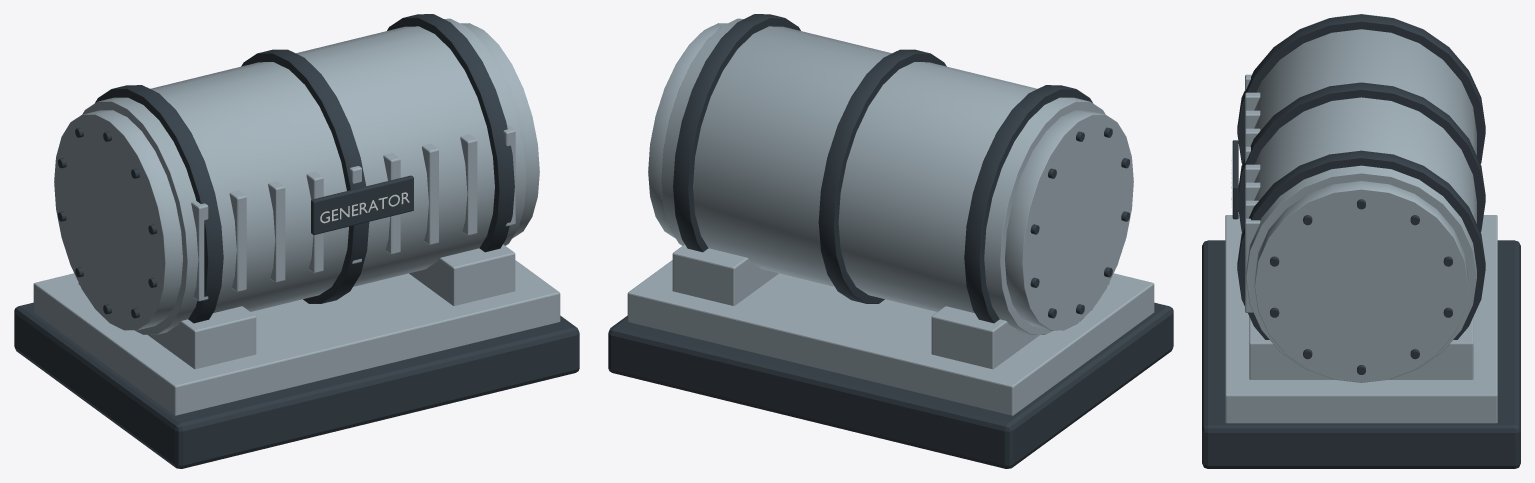
Rendered from generator.glb.
3 views of the same model, side by side, from view 1: azimuth 30°, elevation 25°; view 2: azimuth 150°, elevation 25°; view 3: azimuth 270°, elevation 25° (orthographic). The views are drawn at different scales.
Visible parts, largest first — view 1: Outer shell, Machine base, Concrete plinth, End plate, Casing band.002, Casing band, Casing band.001, Foot, Foot.001, Nameplate, End plate.001, Cooling rib.002 (+6 smaller); view 2: Outer shell, Machine base, Concrete plinth, End plate, Casing band.001, Casing band, Casing band.002, Foot, Foot.001, End plate.001; view 3: End plate.001, Outer shell, Concrete plinth, Machine base, Casing band.002, Casing band, Casing band.001, Foot.001, Nameplate, Cooling rib.008.
Part boxes in pixels (x1,y1,x2,y2): Outer shell: [82, 18, 526, 334]; Machine base: [33, 260, 560, 415]; Concrete plinth: [14, 302, 579, 468]; End plate: [54, 110, 182, 330]; Casing band.002: [387, 14, 514, 252]; Casing band: [95, 85, 223, 323]; Casing band.001: [241, 49, 369, 303]; Foot: [78, 283, 256, 369]; Foot.001: [409, 244, 515, 305]; Nameplate: [311, 175, 413, 234]; End plate.001: [460, 23, 539, 238]; Cooling rib.002: [268, 181, 285, 282]; Outer shell: [661, 18, 1105, 334]; Machine base: [627, 260, 1154, 415]; Concrete plinth: [608, 302, 1173, 468]; End plate: [1005, 110, 1133, 330]; Casing band.001: [818, 49, 946, 303]; Casing band: [964, 85, 1092, 323]; Casing band.002: [673, 14, 800, 252]; Foot: [931, 283, 1109, 369]; Foot.001: [672, 244, 778, 305]; End plate.001: [648, 23, 727, 238]; End plate.001: [1254, 181, 1468, 382]; Outer shell: [1246, 29, 1476, 369]; Concrete plinth: [1202, 240, 1520, 468]; Machine base: [1225, 215, 1497, 423]; Casing band.002: [1237, 150, 1485, 339]; Casing band: [1237, 14, 1485, 163]; Casing band.001: [1238, 82, 1485, 231]; Foot.001: [1249, 317, 1473, 379]; Nameplate: [1232, 140, 1238, 219]; Cooling rib.008: [1245, 218, 1260, 312].
Bounding box in the file's own units: 2.6 × 1.86 × 1.85.
